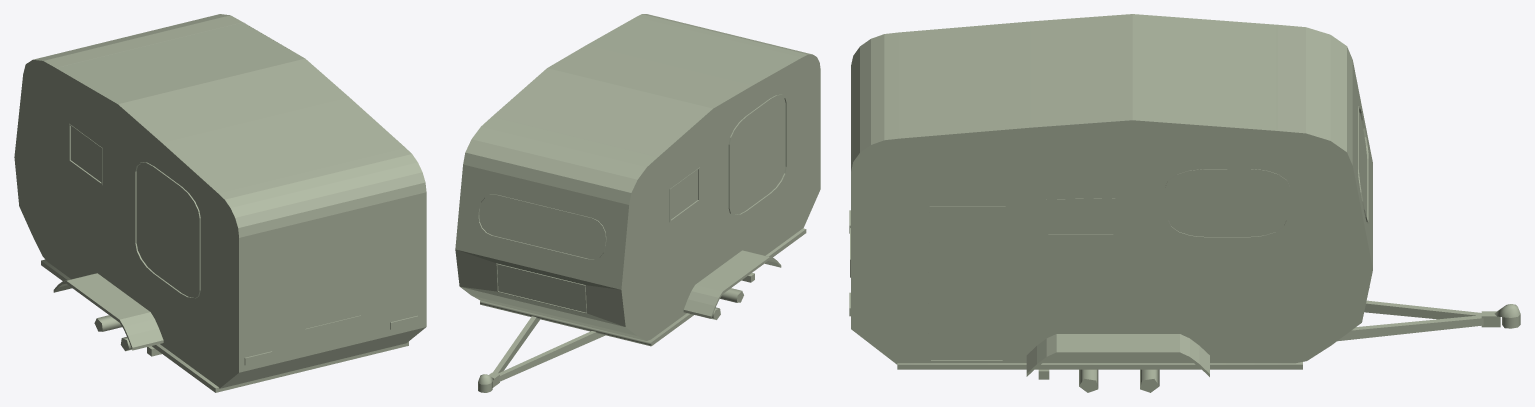
The model's file is Vehicles_hometrailer.fbx.
The picture shows the model from 3 angles, left to right: view 1: azimuth 30°, elevation 25°; view 2: azimuth 150°, elevation 25°; view 3: azimuth 270°, elevation 25°; orthographic projection. The views are drawn at different scales.
Parts seen in each view (by area): view 1: CubeNoColor; view 2: CubeNoColor; view 3: CubeNoColor.
Boxes of the visible parts, x1,y1,x2,y2 form: CubeNoColor: (14, 14, 426, 392); CubeNoColor: (455, 14, 820, 392); CubeNoColor: (849, 14, 1520, 392).
Bounding box in the file's own units: 299 × 267 × 597.
